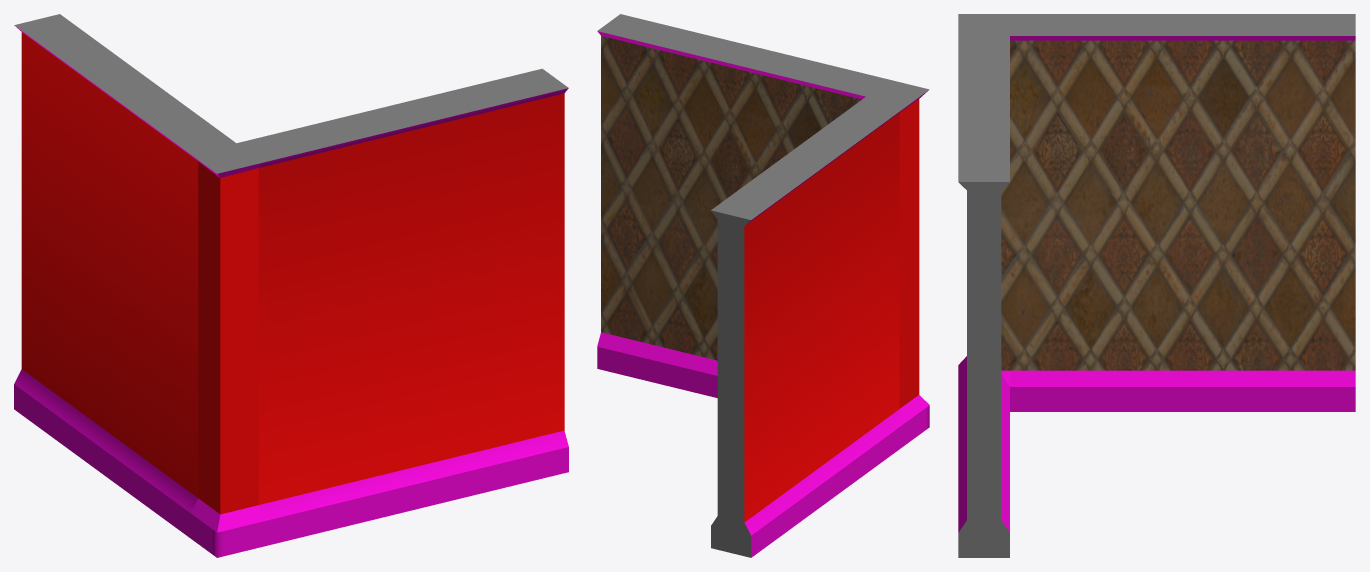
Rendered from outside15.FBX.
3 renders of one model, left to right at view 1: azimuth 30°, elevation 25°; view 2: azimuth 150°, elevation 25°; view 3: azimuth 270°, elevation 25°, orthographic. The views are drawn at different scales.
Parts seen in each view (by area): view 1: ModularWallhfghghf; view 2: ModularWallhfghghf; view 3: ModularWallhfghghf.
Part boxes in pixels (left/top/right/bottom): ModularWallhfghghf: left=14, top=14, right=568, bottom=557; ModularWallhfghghf: left=597, top=14, right=929, bottom=557; ModularWallhfghghf: left=958, top=14, right=1355, bottom=557.
Size of the model in its own units: 115 by 120 by 115.
